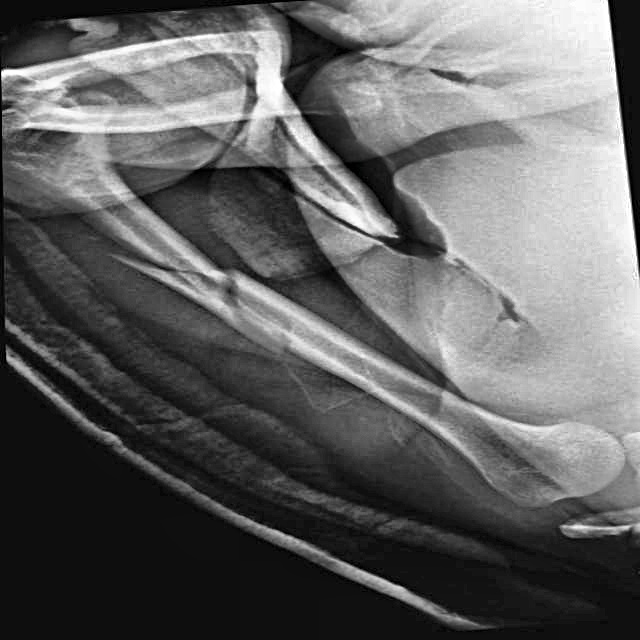Spiral: (78, 229, 338, 393)
